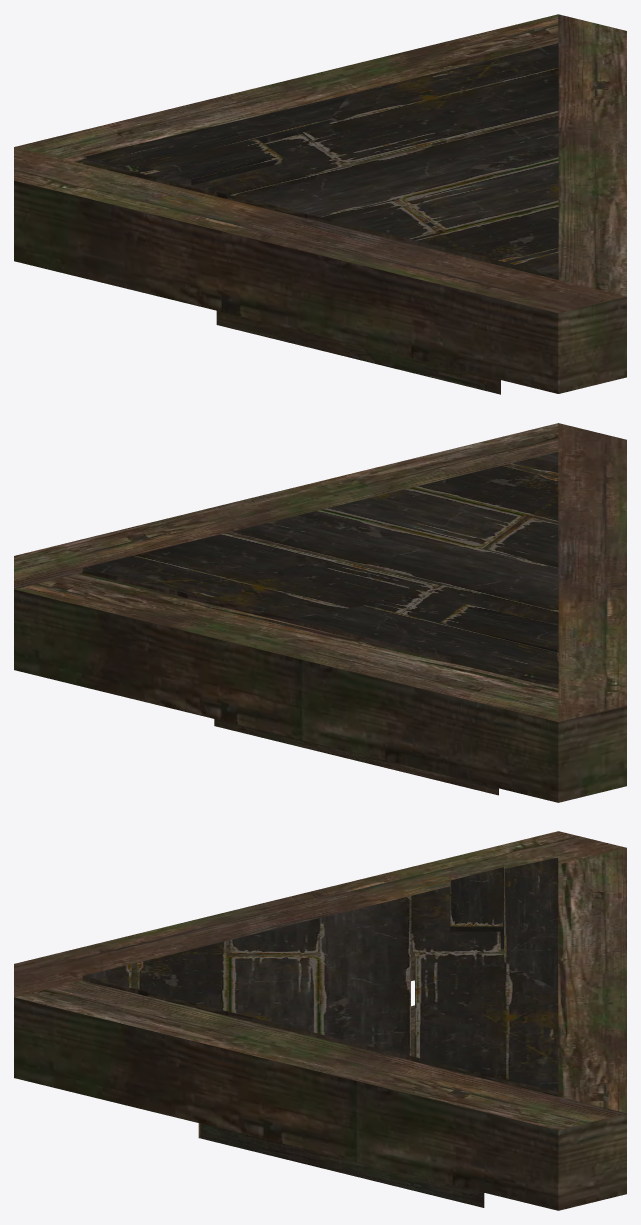
3 renders of one model, top to bottom at view 1: azimuth 30°, elevation 25°; view 2: azimuth 150°, elevation 25°; view 3: azimuth 270°, elevation 25°, orthographic.
Visible parts, largest first — view 1: SM_BB_T1_Floor_Trangle_Med_LOD0; view 2: SM_BB_T1_Floor_Trangle_Med_LOD0; view 3: SM_BB_T1_Floor_Trangle_Med_LOD0.
Part boxes in pixels (x1,y1,x2,y2): SM_BB_T1_Floor_Trangle_Med_LOD0: [14, 14, 626, 394]; SM_BB_T1_Floor_Trangle_Med_LOD0: [14, 423, 626, 802]; SM_BB_T1_Floor_Trangle_Med_LOD0: [14, 831, 626, 1210].
Size of the model in its own units: 1.93 by 0.5085 by 1.67.
Materials: 2 (2 with a texture image).
